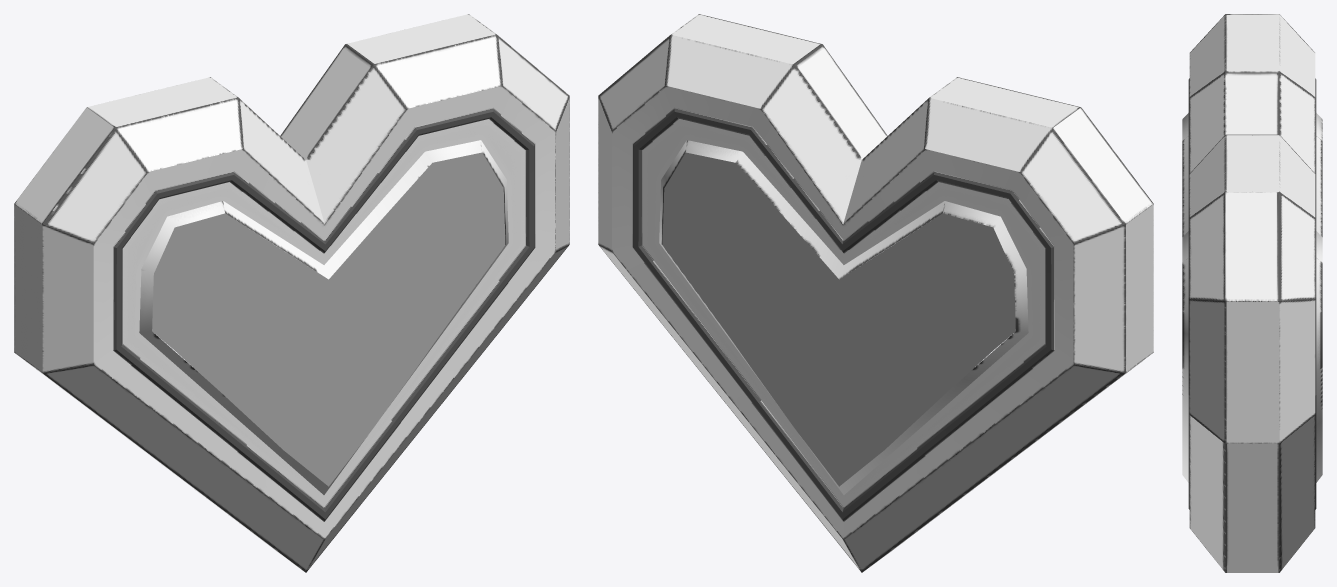
Rendered from Heart_design3.glb.
The picture shows the model from 3 angles, left to right: view 1: azimuth 30°, elevation 25°; view 2: azimuth 150°, elevation 25°; view 3: azimuth 270°, elevation 25°; orthographic projection. The views are drawn at different scales.
Visible parts, largest first — view 1: polySurface10, polySurface11; view 2: polySurface10, polySurface12; view 3: polySurface10.
Boxes of the visible parts, x1,y1,x2,y2 form: polySurface10: (14, 14, 569, 572); polySurface11: (152, 152, 505, 486); polySurface10: (598, 14, 1153, 572); polySurface12: (662, 152, 1015, 486); polySurface10: (1182, 14, 1322, 572).
Size of the model in its own units: 15.02 by 13.38 by 3.63.
Materials: 2 (2 with a texture image).
